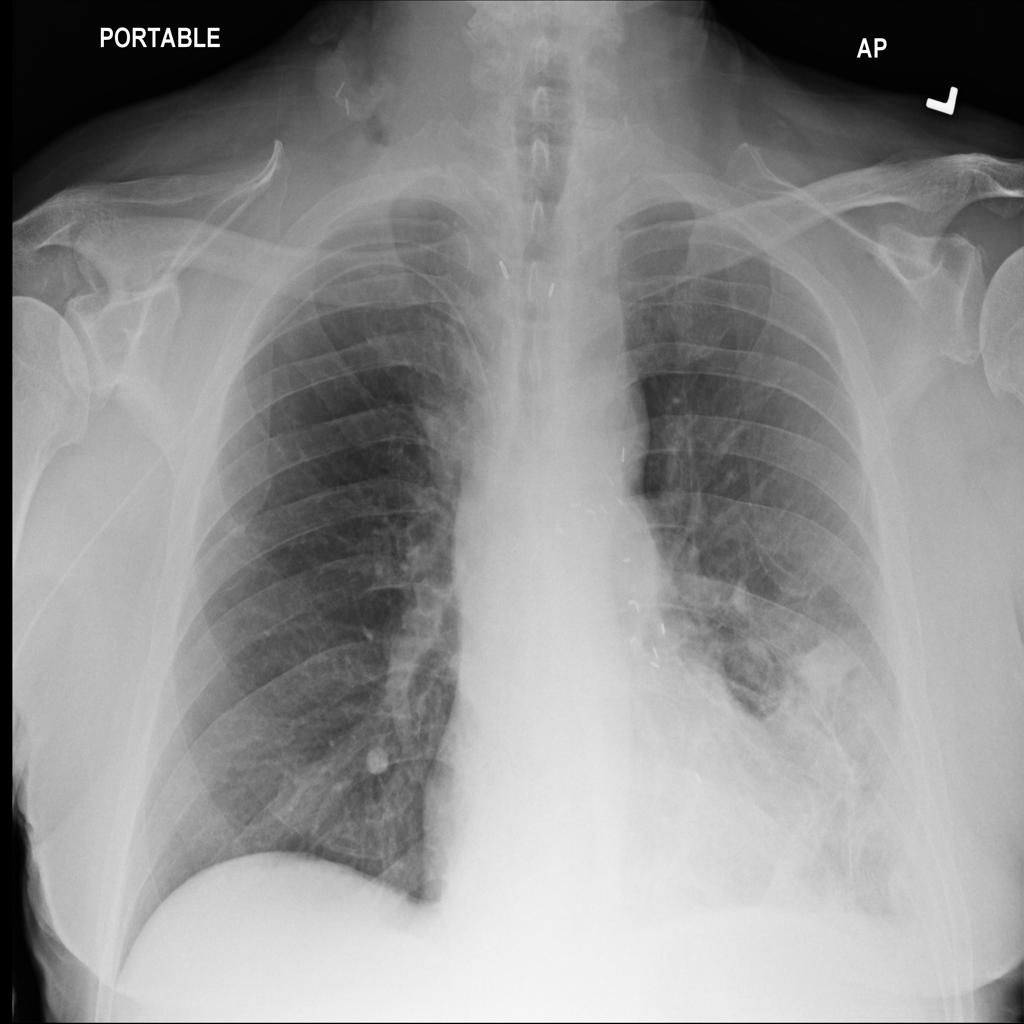nodule: (353, 733, 399, 785)
